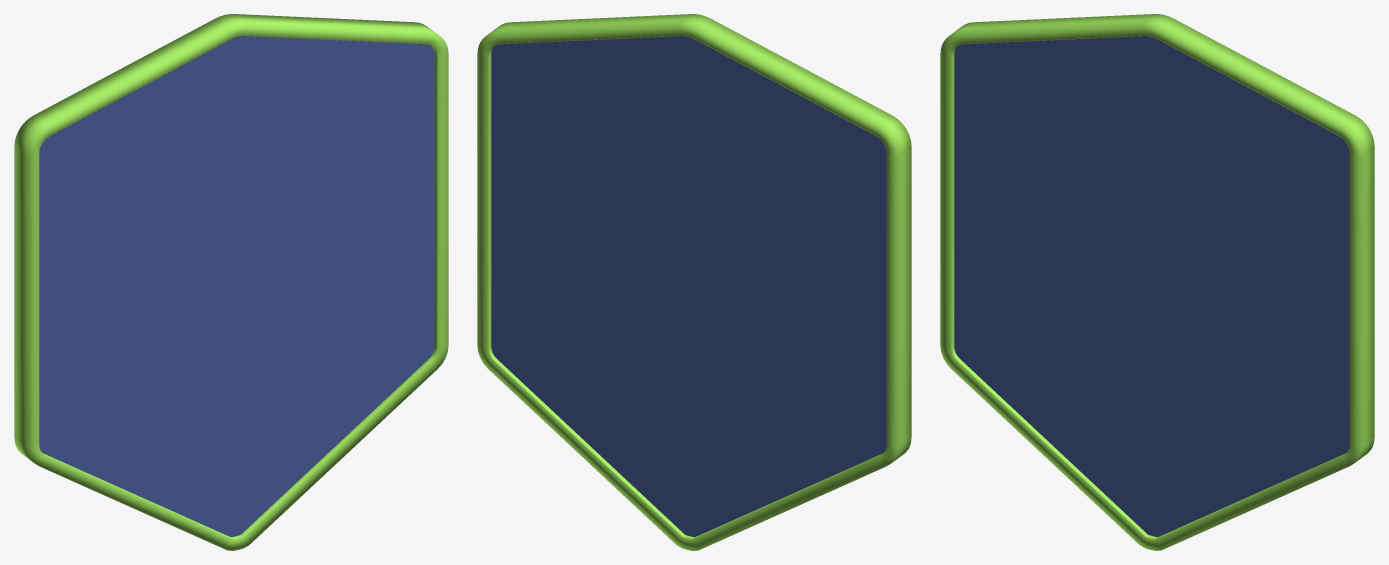
File: shield.glb
3 views of the same model, side by side, from view 1: azimuth 30°, elevation 25°; view 2: azimuth 150°, elevation 25°; view 3: azimuth 330°, elevation 25° (orthographic).
Parts seen in each view (by area): view 1: Object004, Line028; view 2: Object004, Line028; view 3: Object004, Line028.
Boxes of the visible parts, left/top/right/bottom form: Object004: left=39, top=36, right=434, bottom=536; Line028: left=14, top=14, right=448, bottom=550; Object004: left=491, top=36, right=886, bottom=536; Line028: left=477, top=14, right=911, bottom=550; Object004: left=954, top=36, right=1349, bottom=536; Line028: left=940, top=14, right=1374, bottom=550.
Bounding box in the file's own units: 2.1 × 2.5 × 0.12.
